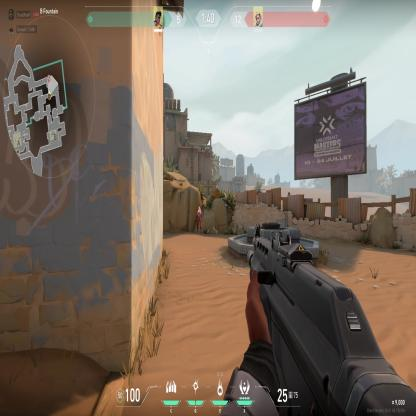enemy: (196, 206, 203, 236)
